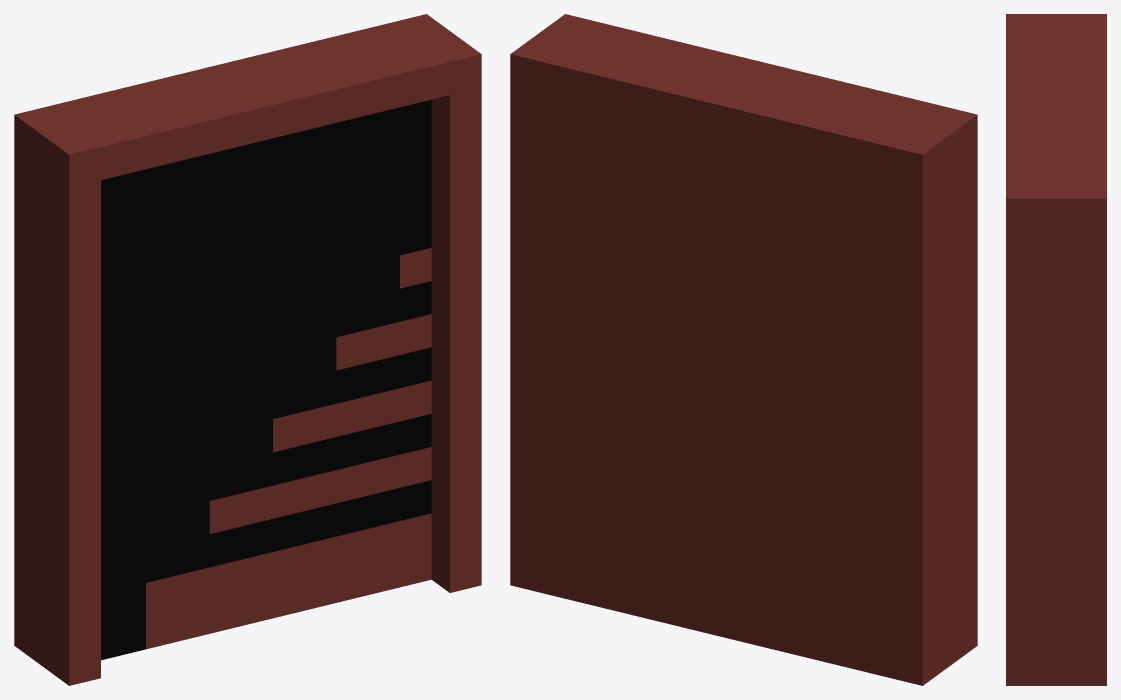
Rendered from dungeon_b_a_entrance_b.obj.
3 views of the same model, side by side, from view 1: azimuth 30°, elevation 25°; view 2: azimuth 150°, elevation 25°; view 3: azimuth 270°, elevation 25° (orthographic). The views are drawn at different scales.
Bounding box in the file's own units: 1.3 × 1.6 × 0.3.
Materials: 1 (1 with a texture image).
